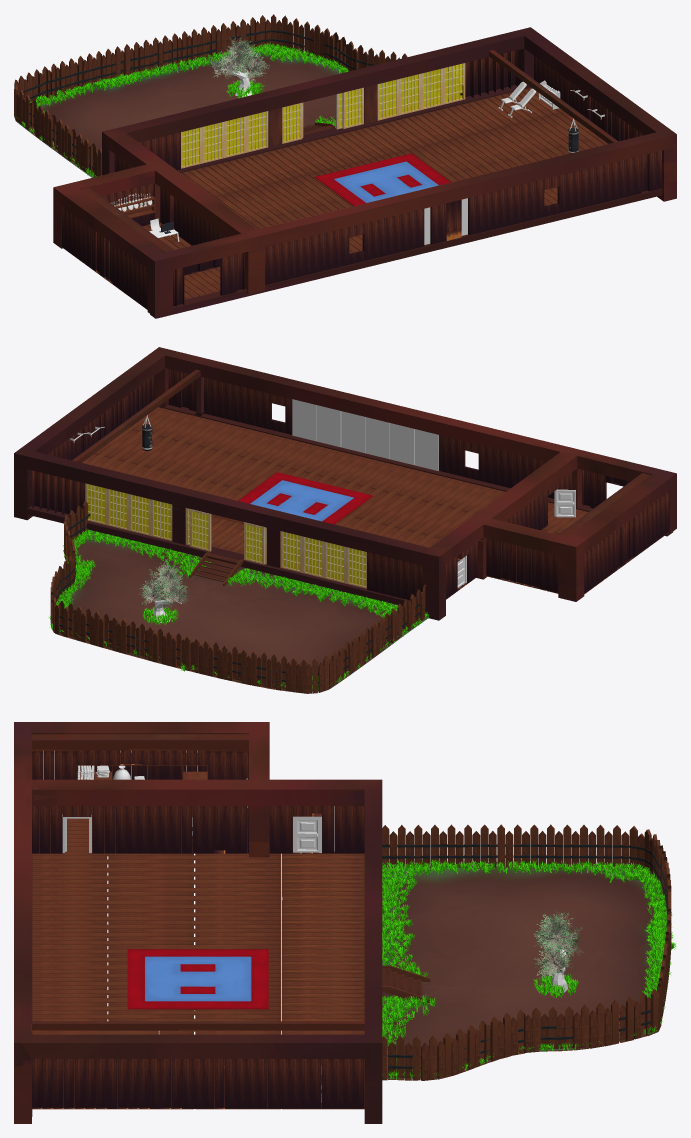
Rendered from dojojojo.fbx.
3 views of the same model, one above another, from view 1: azimuth 30°, elevation 25°; view 2: azimuth 150°, elevation 25°; view 3: azimuth 270°, elevation 25° (orthographic). The views are drawn at different scales.
Visible parts, largest first — view 1: Cube.114, Plane, Cube.028, Plane.166, Branch.128, Cube.031, Cube.041, Cube.035, Cube.037, Cube.043, Cube.033, Cube.045 (+4 smaller); view 2: Cube.114, Plane, Cube.069, Plane.166, Cube.028, Branch.128, Door.001, Cube.039, Cube.041, Cube.043, Cube.031, Cube.033 (+4 smaller); view 3: Cube.114, Plane, Plane.166, Cube.028, Branch.128, Door.002.
Part boxes in pixels (box(x1,y1,x2,y2)): Cube.114: box(14, 14, 676, 318); Plane: box(17, 48, 344, 177); Cube.028: box(314, 153, 450, 205); Plane.166: box(17, 42, 348, 176); Branch.128: box(208, 35, 269, 83); Cube.031: box(401, 74, 418, 113); Cube.041: box(182, 127, 199, 166); Cube.035: box(423, 69, 440, 107); Cube.037: box(445, 63, 462, 102); Cube.043: box(226, 117, 243, 155); Cube.033: box(379, 80, 396, 118); Cube.045: box(248, 111, 265, 150); Cube.114: box(14, 347, 676, 693); Plane: box(53, 531, 428, 691); Cube.069: box(292, 399, 438, 470); Plane.166: box(49, 529, 429, 689); Cube.028: box(238, 472, 372, 524); Branch.128: box(139, 559, 189, 609); Door.001: box(555, 489, 575, 517); Cube.039: box(327, 542, 343, 581); Cube.041: box(349, 547, 365, 586); Cube.043: box(305, 537, 321, 575); Cube.031: box(131, 495, 148, 533); Cube.033: box(153, 500, 170, 538); Cube.114: box(14, 722, 671, 1123); Plane: box(382, 866, 667, 1078); Plane.166: box(382, 859, 676, 1079); Cube.028: box(127, 949, 268, 1009); Branch.128: box(533, 911, 584, 978); Door.002: box(295, 818, 319, 852).
Bounding box in the file's own units: 4308 × 522 × 3762.
